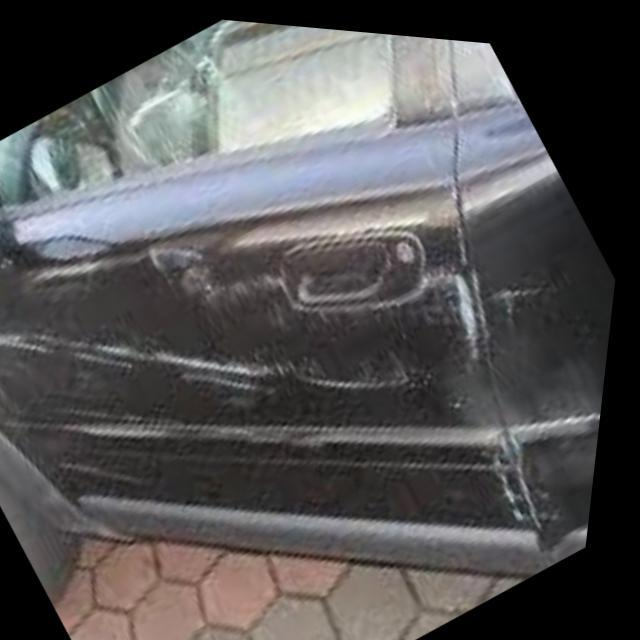rub: (0, 230, 554, 489)
